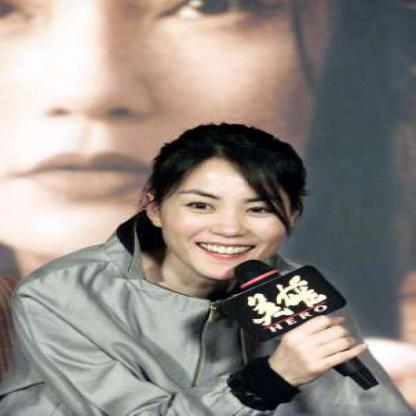face: (162, 136, 299, 282), (1, 1, 3, 3)
